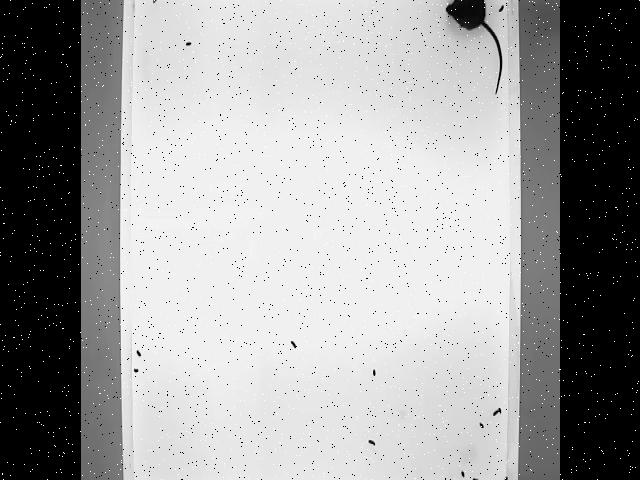Tikus: (440, 0, 506, 98)
